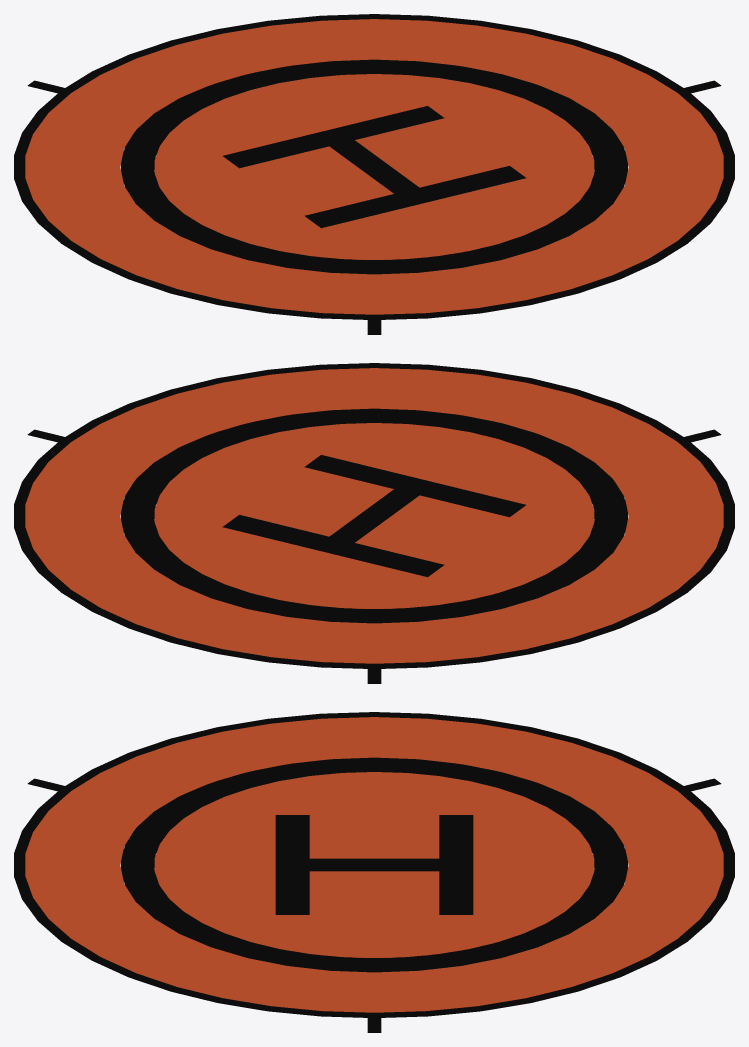
File: LandingPad.dae
The picture shows the model from 3 angles, top to bottom: view 1: azimuth 30°, elevation 25°; view 2: azimuth 150°, elevation 25°; view 3: azimuth 270°, elevation 25°; orthographic projection.
Visible parts, largest first — view 1: Landing Pad v1, Landing Pad v1.003, Landing Pad v1.001; view 2: Landing Pad v1, Landing Pad v1.003, Landing Pad v1.001; view 3: Landing Pad v1, Landing Pad v1.003, Landing Pad v1.001.
Part boxes in pixels (x1,y1,x2,y2): Landing Pad v1: (25,19,723,314); Landing Pad v1.003: (121,59,627,274); Landing Pad v1.001: (14,14,734,334); Landing Pad v1: (25,368,723,663); Landing Pad v1.003: (121,408,627,623); Landing Pad v1.001: (14,363,734,683); Landing Pad v1: (25,717,723,1012); Landing Pad v1.003: (121,757,627,972); Landing Pad v1.001: (14,712,734,1032).
Bounding box in the file's own units: 0.8522 × 0.8105 × 0.00128.
